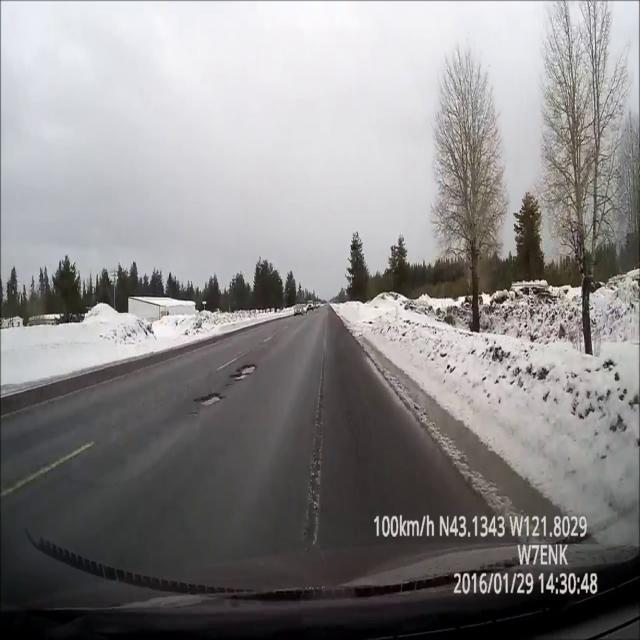pothole: (229, 363, 257, 383), (194, 392, 224, 408)
